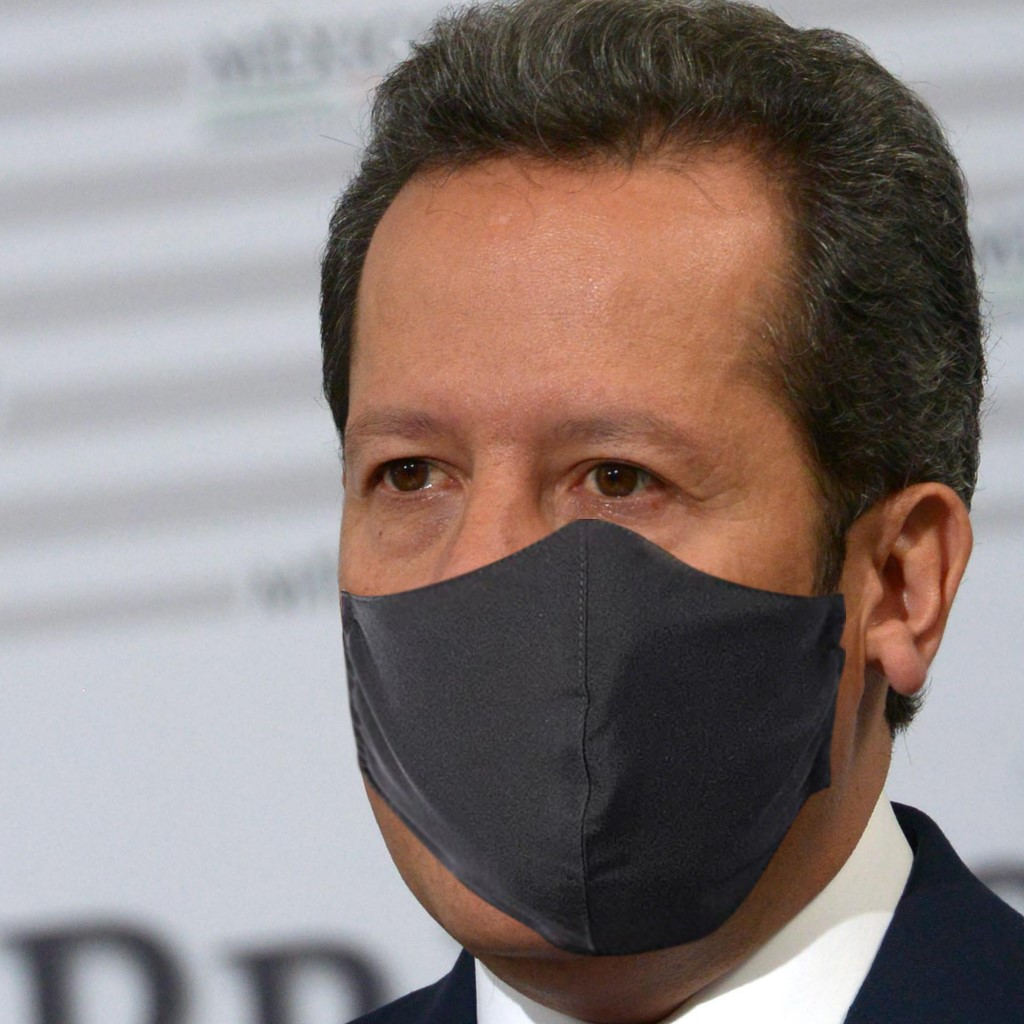con_mascara: (321, 125, 925, 986)
